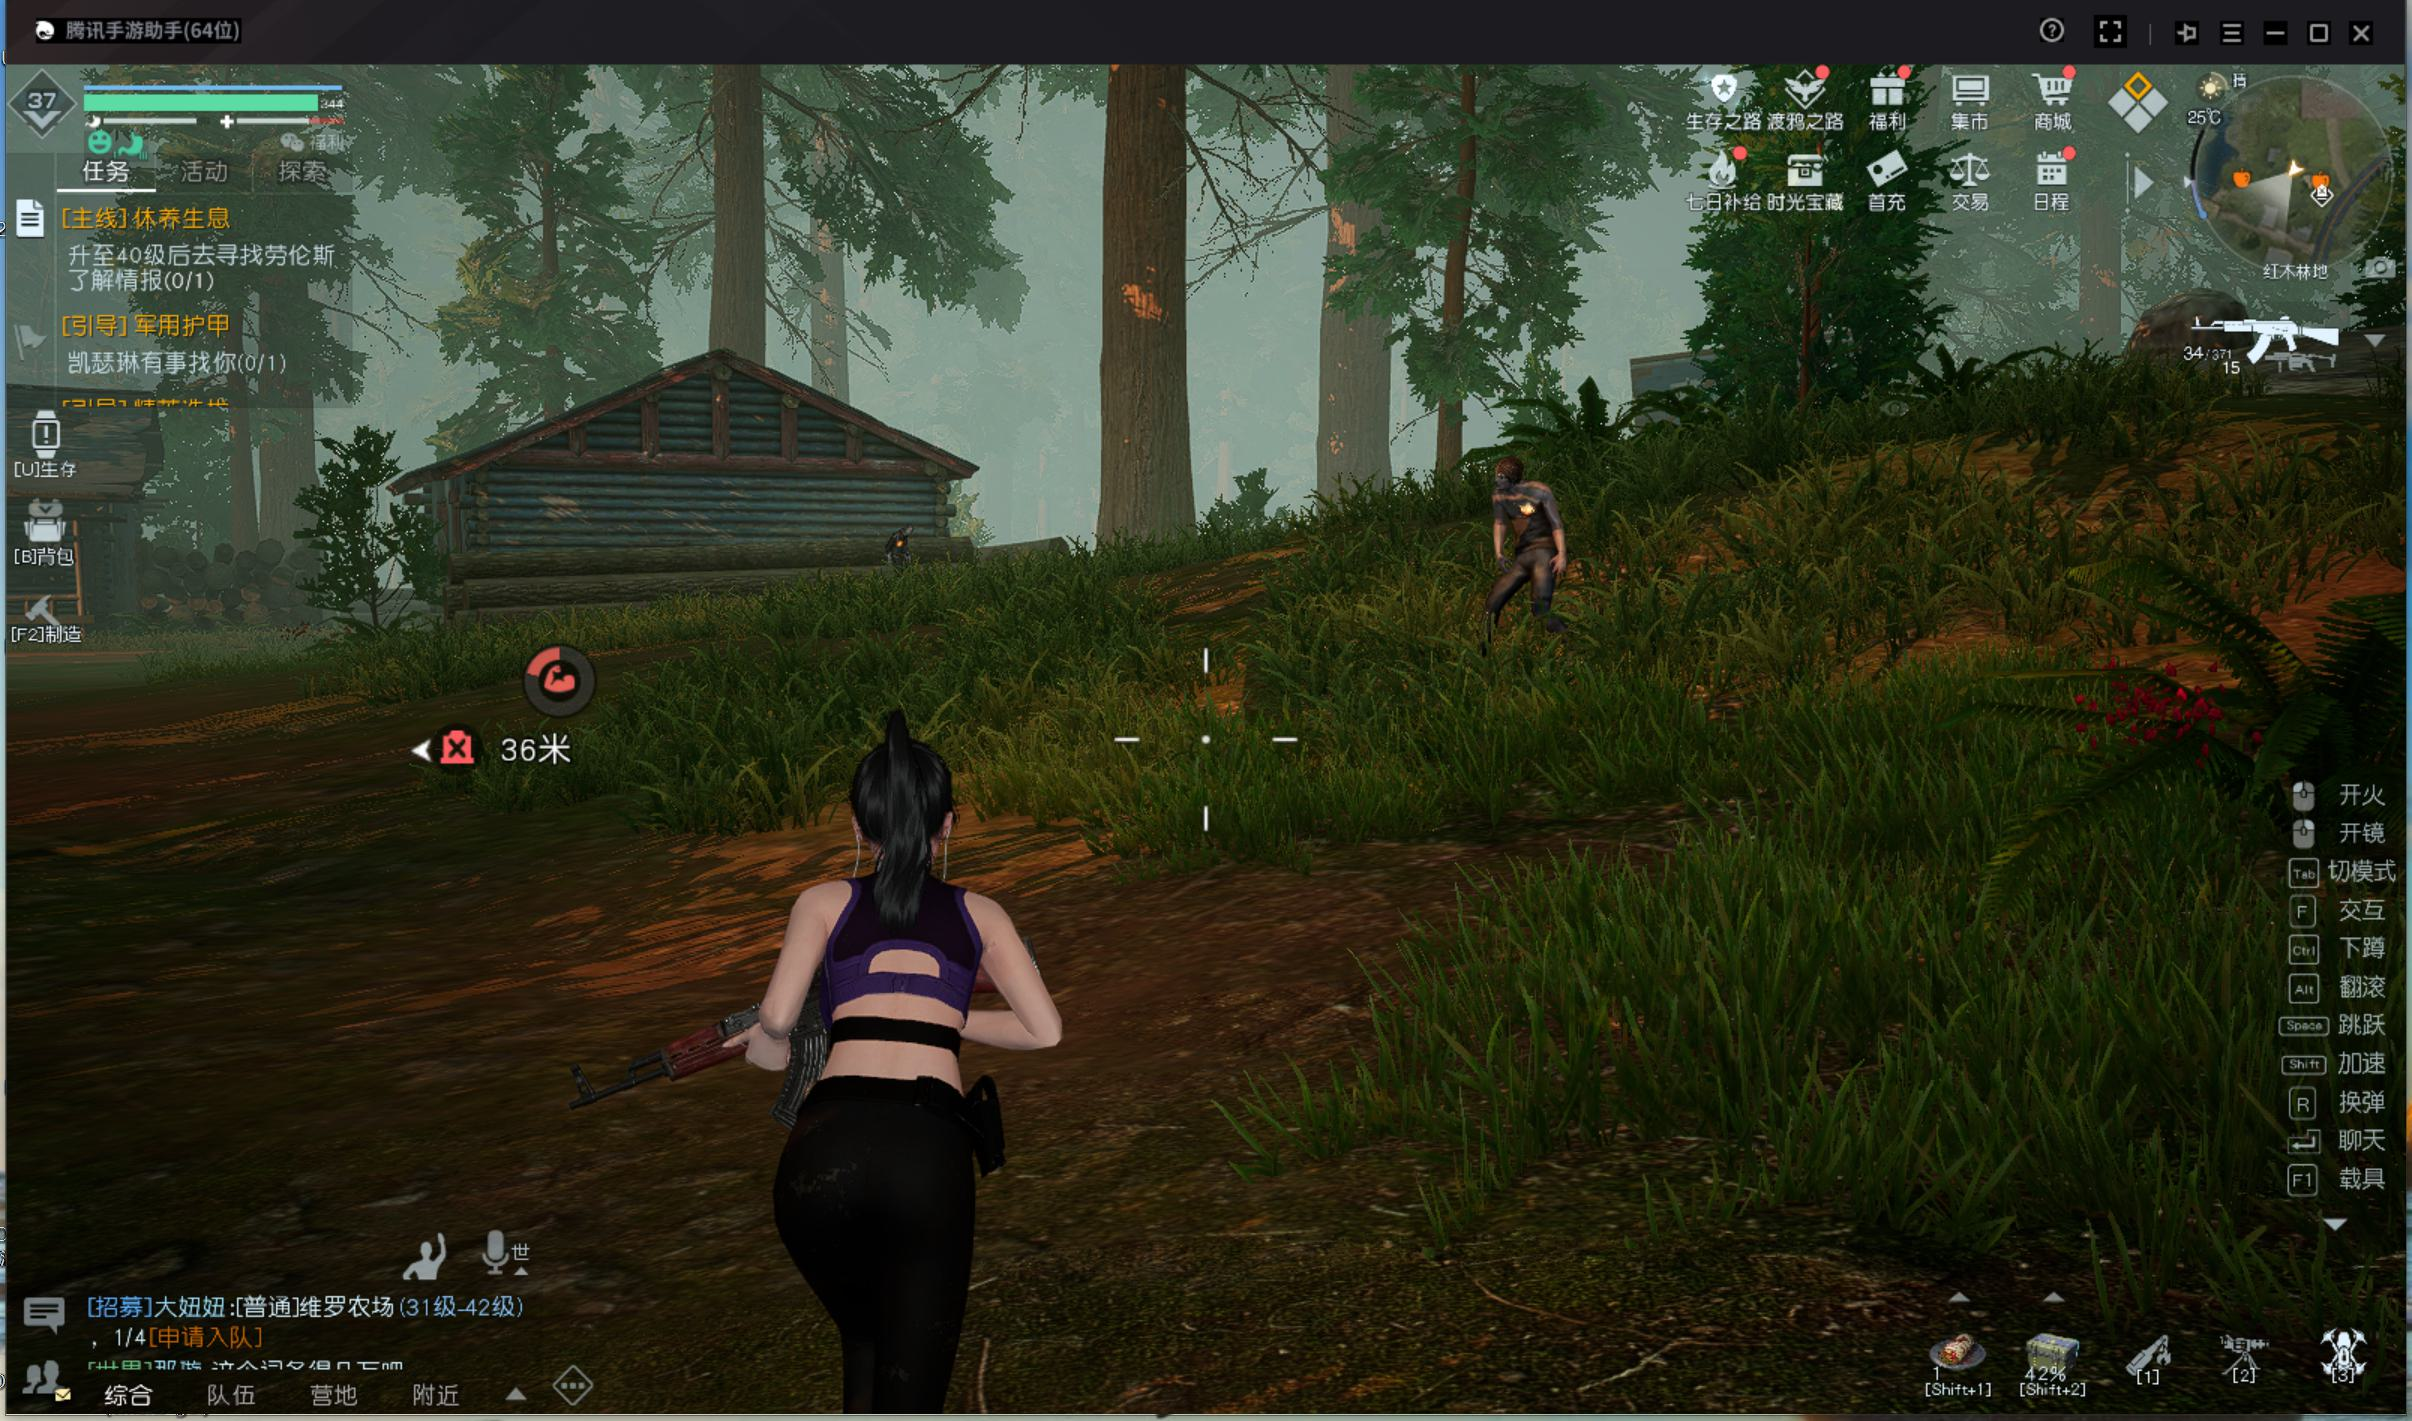tree: (1081, 140, 1192, 567), (1319, 154, 1394, 545), (692, 130, 792, 364)
